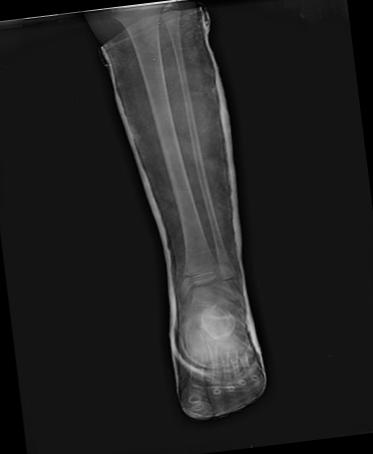fractured: (179, 273, 199, 304)
